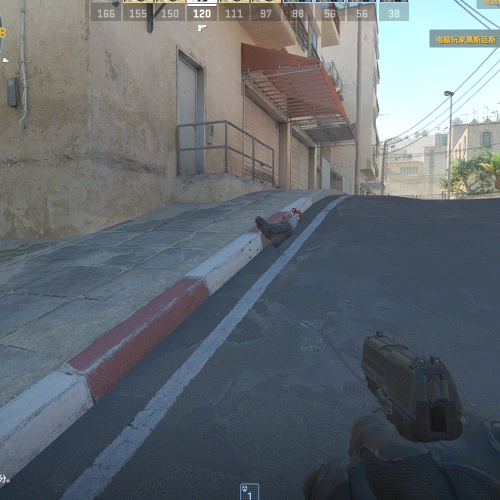chicken: (254, 210, 303, 257)
